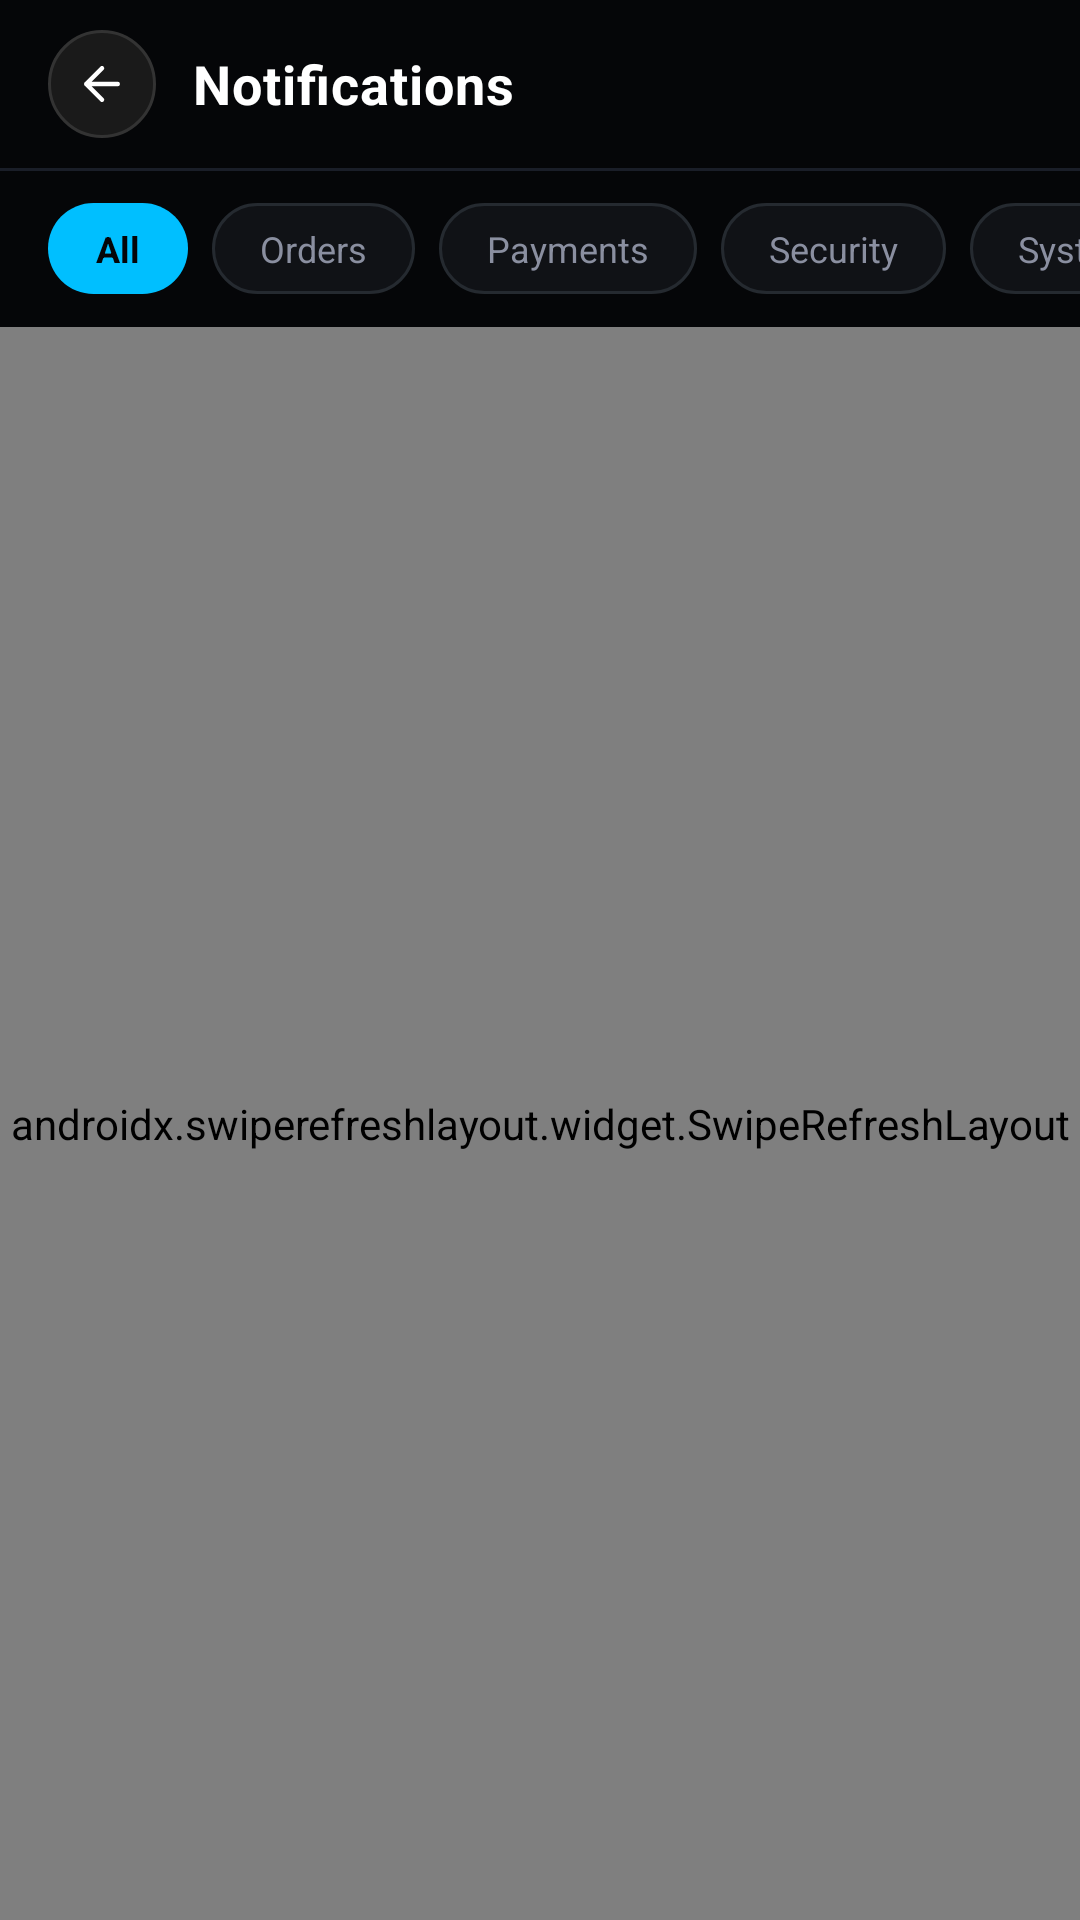

Icon click points for this 1080*1920 phone screenshot, format [x,y]:
Back: [102,84]
